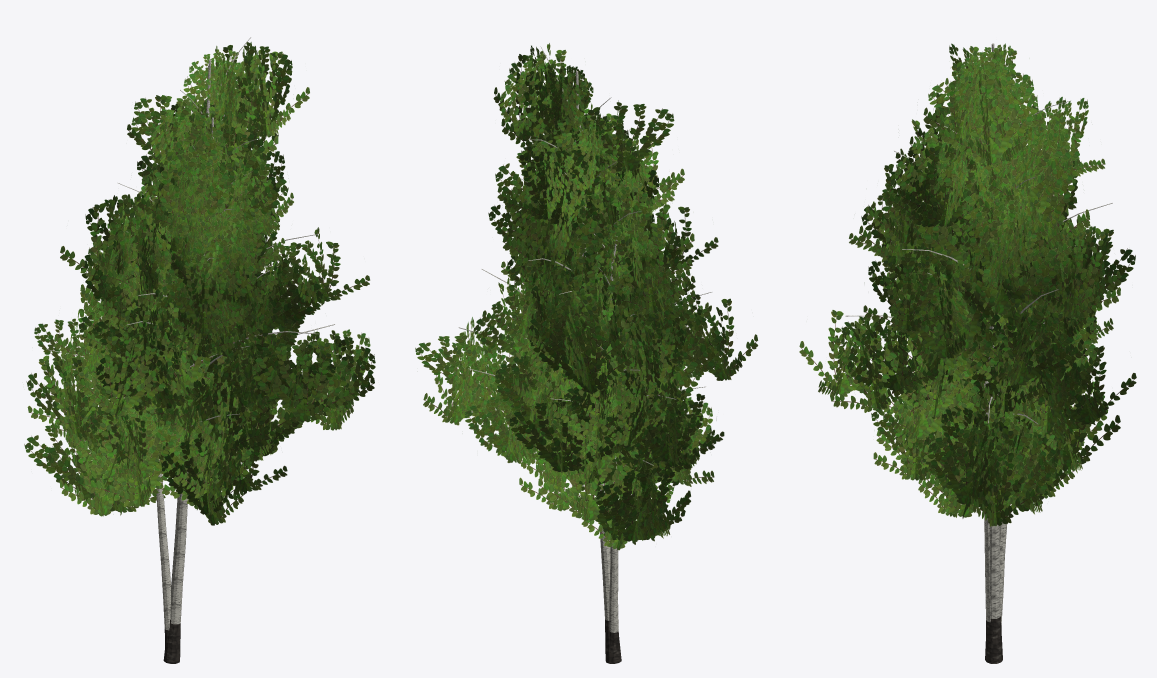
Rendered from birch_b.glb.
3 views of the same model, side by side, from view 1: azimuth 30°, elevation 25°; view 2: azimuth 150°, elevation 25°; view 3: azimuth 270°, elevation 25° (orthographic). The views are drawn at different scales.
Visible parts, largest first — view 1: birch_b_LOD0; view 2: birch_b_LOD0; view 3: birch_b_LOD0.
Part boxes in pixels (left/top/right/bottom): birch_b_LOD0: left=24, top=37, right=375, bottom=663; birch_b_LOD0: left=415, top=43, right=758, bottom=663; birch_b_LOD0: left=799, top=43, right=1136, bottom=663.
Size of what is drawn, in the model's own units: 7.43 by 13.66 by 6.5.
Materials: 3 (3 with a texture image).
